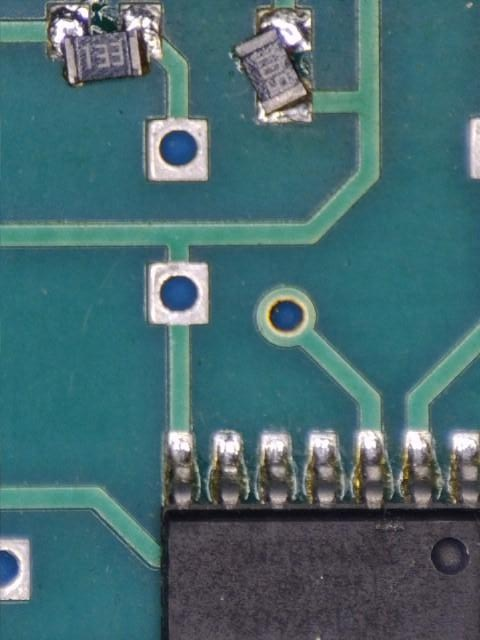pcb_defect: (45, 2, 163, 88), (232, 9, 313, 124)
